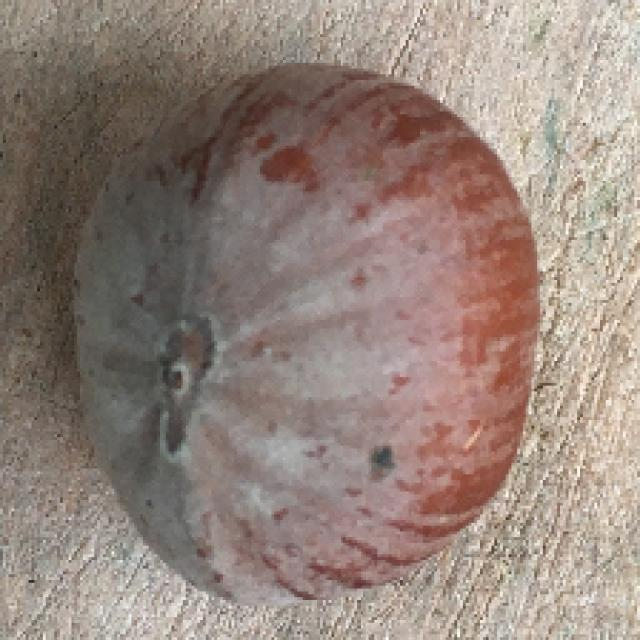hazelnut: (57, 60, 540, 597)
